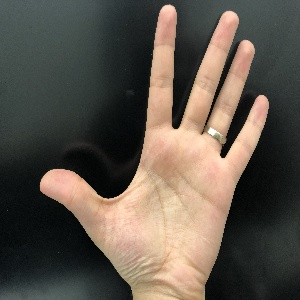hand: (40, 5, 270, 279)
